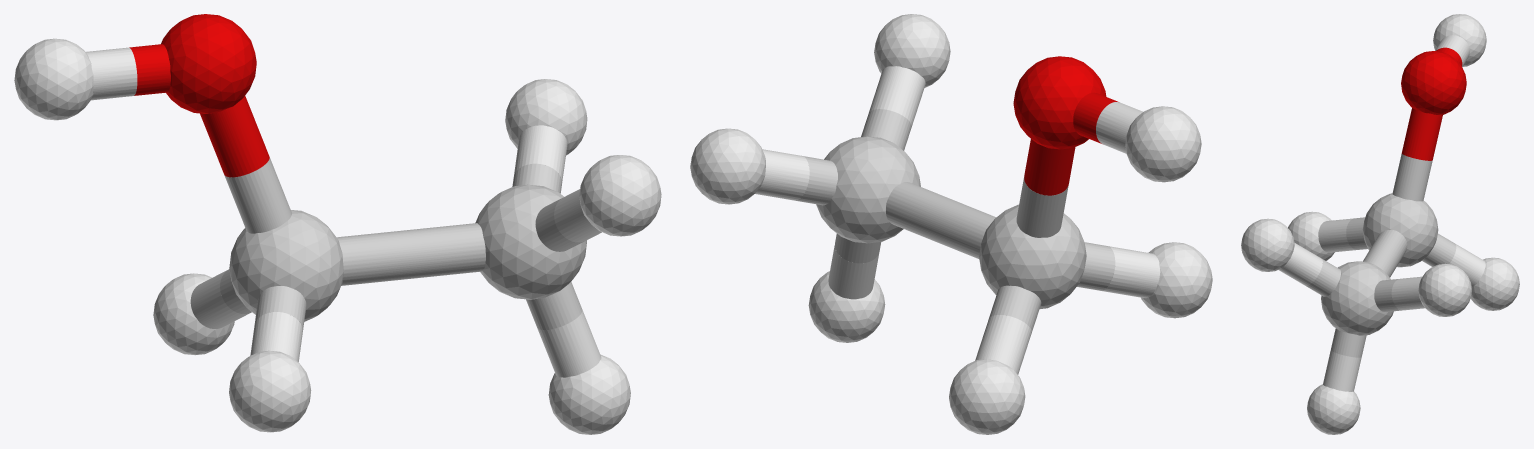
The model's file is ethanol.fbx.
3 views of the same model, side by side, from view 1: azimuth 30°, elevation 25°; view 2: azimuth 150°, elevation 25°; view 3: azimuth 270°, elevation 25° (orthographic). The views are drawn at different scales.
Parts seen in each view (by area): view 1: ethanol; view 2: ethanol; view 3: ethanol.
Part boxes in pixels (<box>): ethanol: <box>14,14,661,434</box>; ethanol: <box>690,14,1212,434</box>; ethanol: <box>1241,14,1519,434</box>.
Size of the model in its own units: 3905 by 2924 by 2626.
